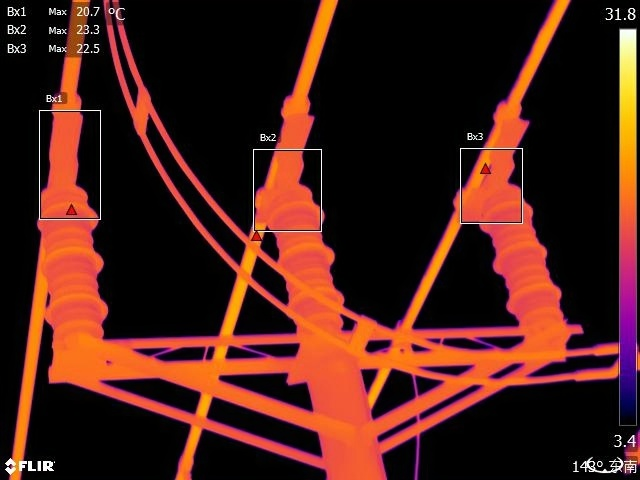post insulator: (473, 178, 580, 334), (263, 179, 351, 326), (34, 188, 117, 329)
